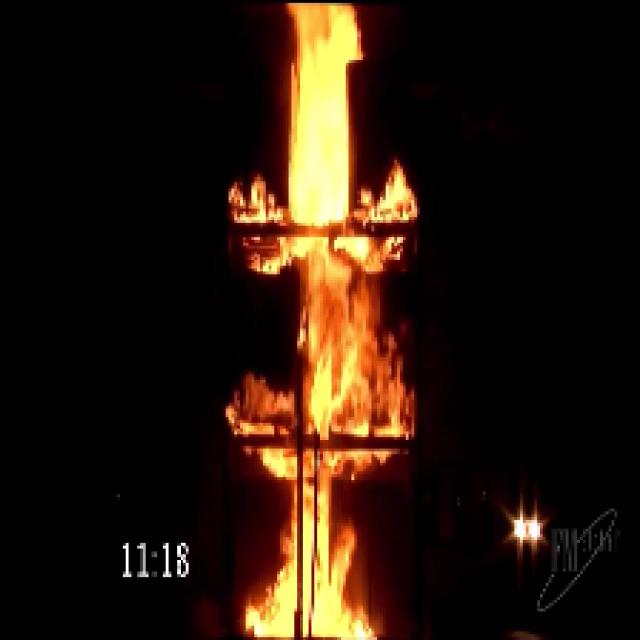fire: (250, 0, 375, 640)
